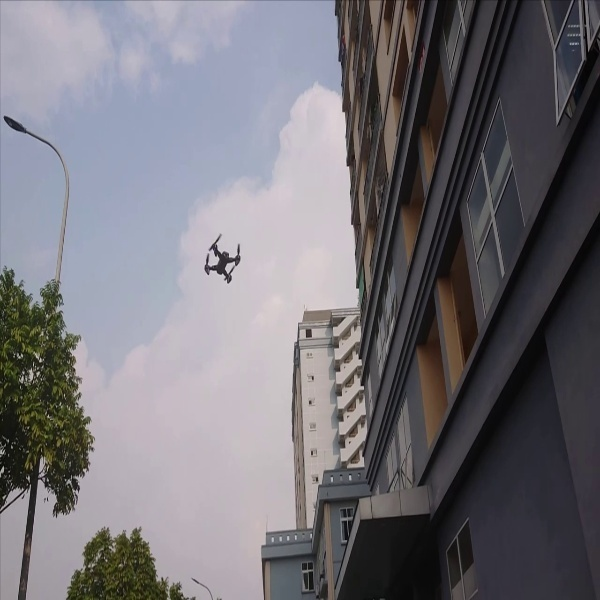drone: (200, 232, 246, 294)
